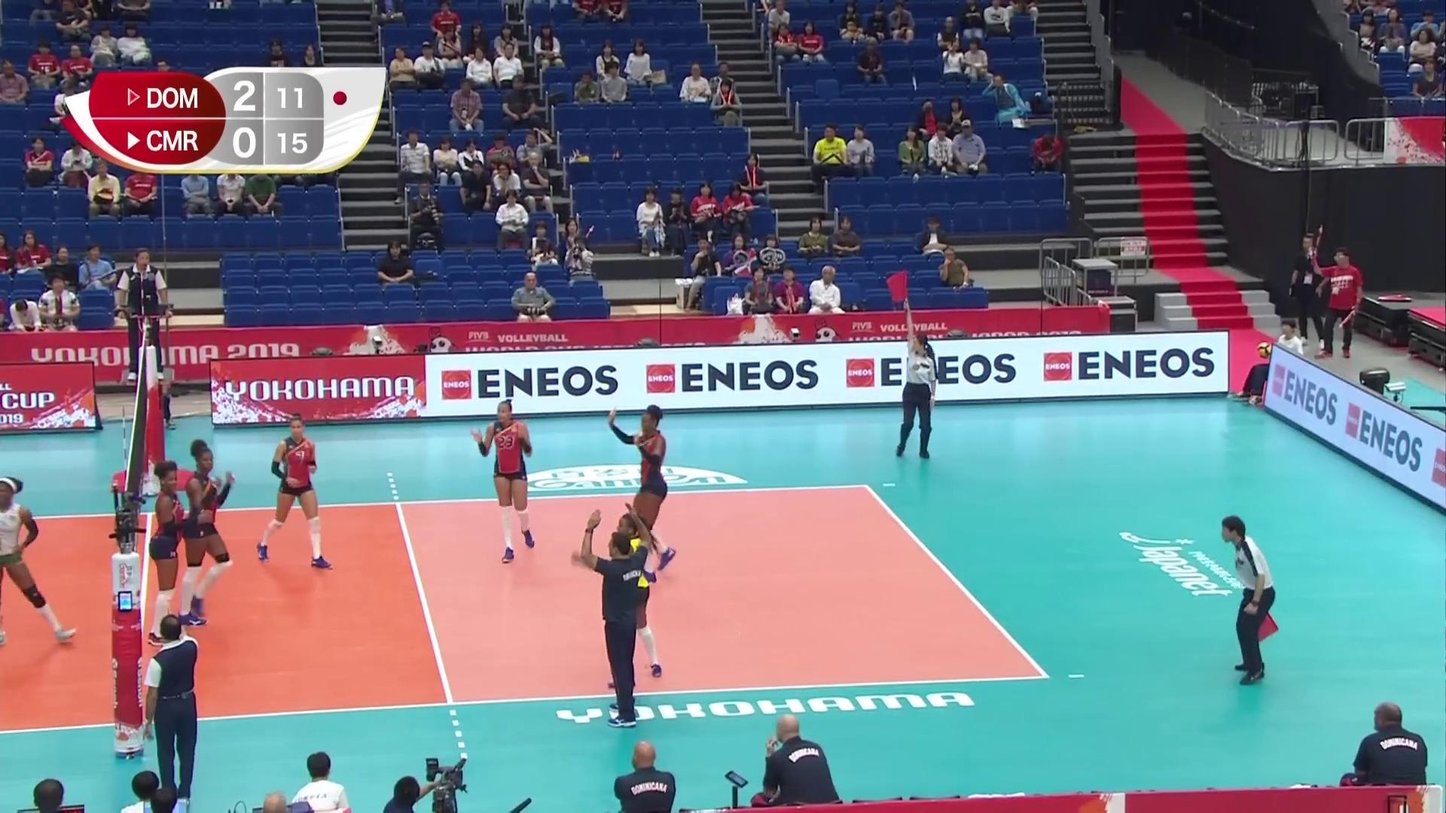player: (575, 513, 663, 687), (0, 475, 76, 640), (259, 413, 332, 569), (608, 405, 675, 571), (474, 400, 535, 565), (182, 440, 233, 627), (149, 460, 185, 645)
refree: (143, 615, 199, 800), (1220, 515, 1278, 684), (117, 247, 169, 379), (898, 299, 937, 460)
